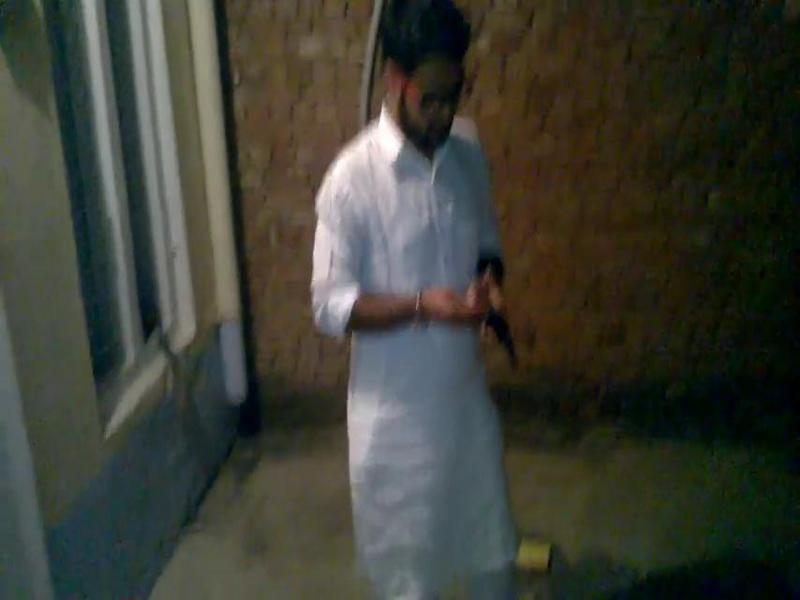Revolver: (463, 252, 539, 394)
